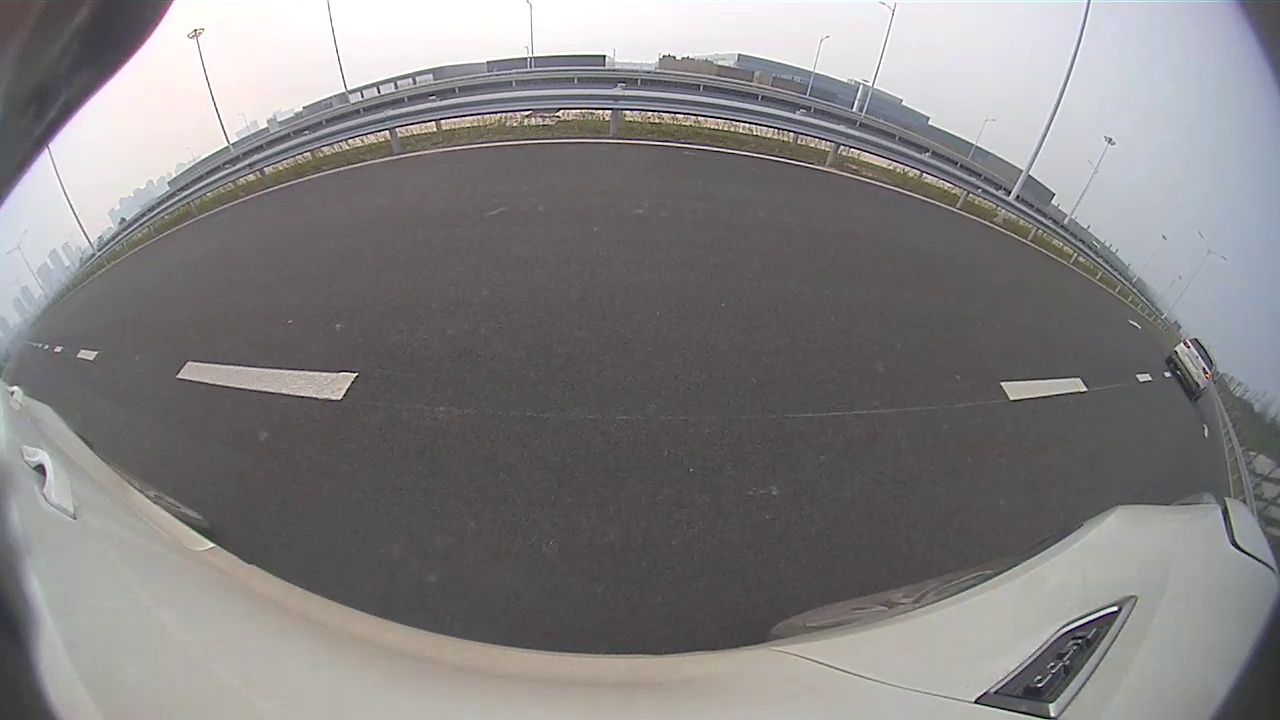car: (1165, 337, 1217, 402)
